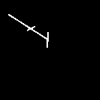double_crochet: (8, 14, 48, 46)
